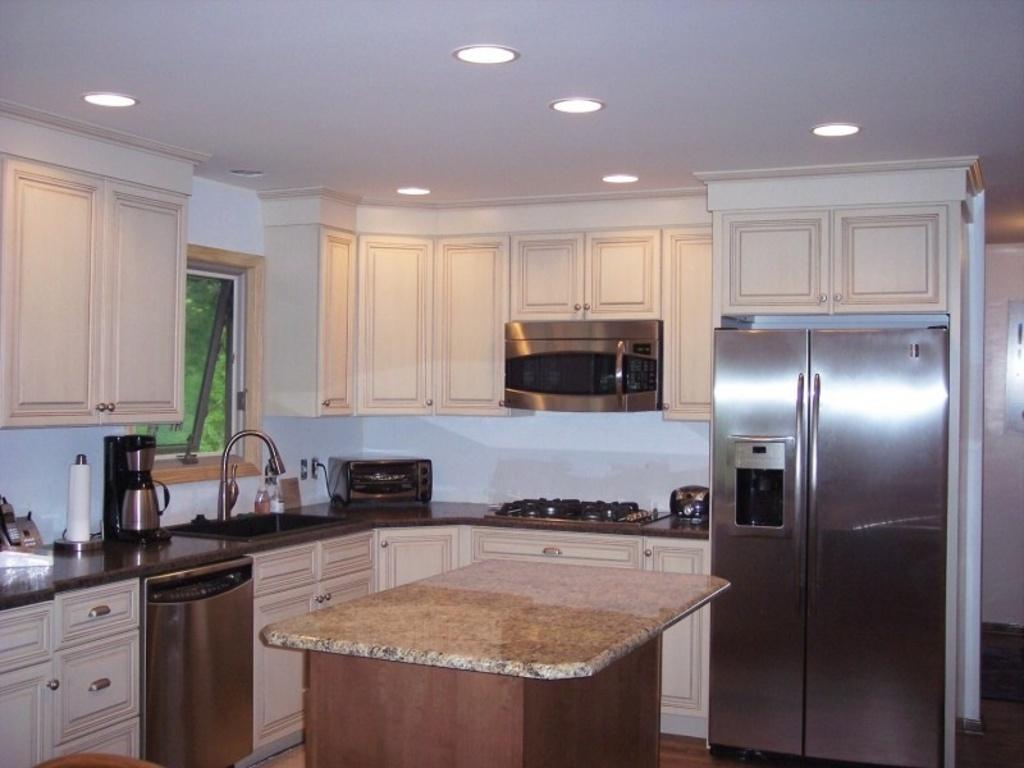cabinet_door: (24, 173, 94, 414), (110, 193, 176, 421), (440, 252, 498, 402), (370, 250, 422, 408), (734, 224, 830, 306), (838, 225, 936, 302), (668, 246, 710, 408), (67, 653, 140, 716), (319, 243, 344, 414), (482, 534, 644, 560), (514, 243, 580, 306), (589, 240, 647, 306), (9, 682, 55, 748), (76, 594, 130, 626)
handle: (806, 390, 822, 588), (792, 383, 802, 594), (88, 672, 114, 693), (89, 603, 109, 622)
